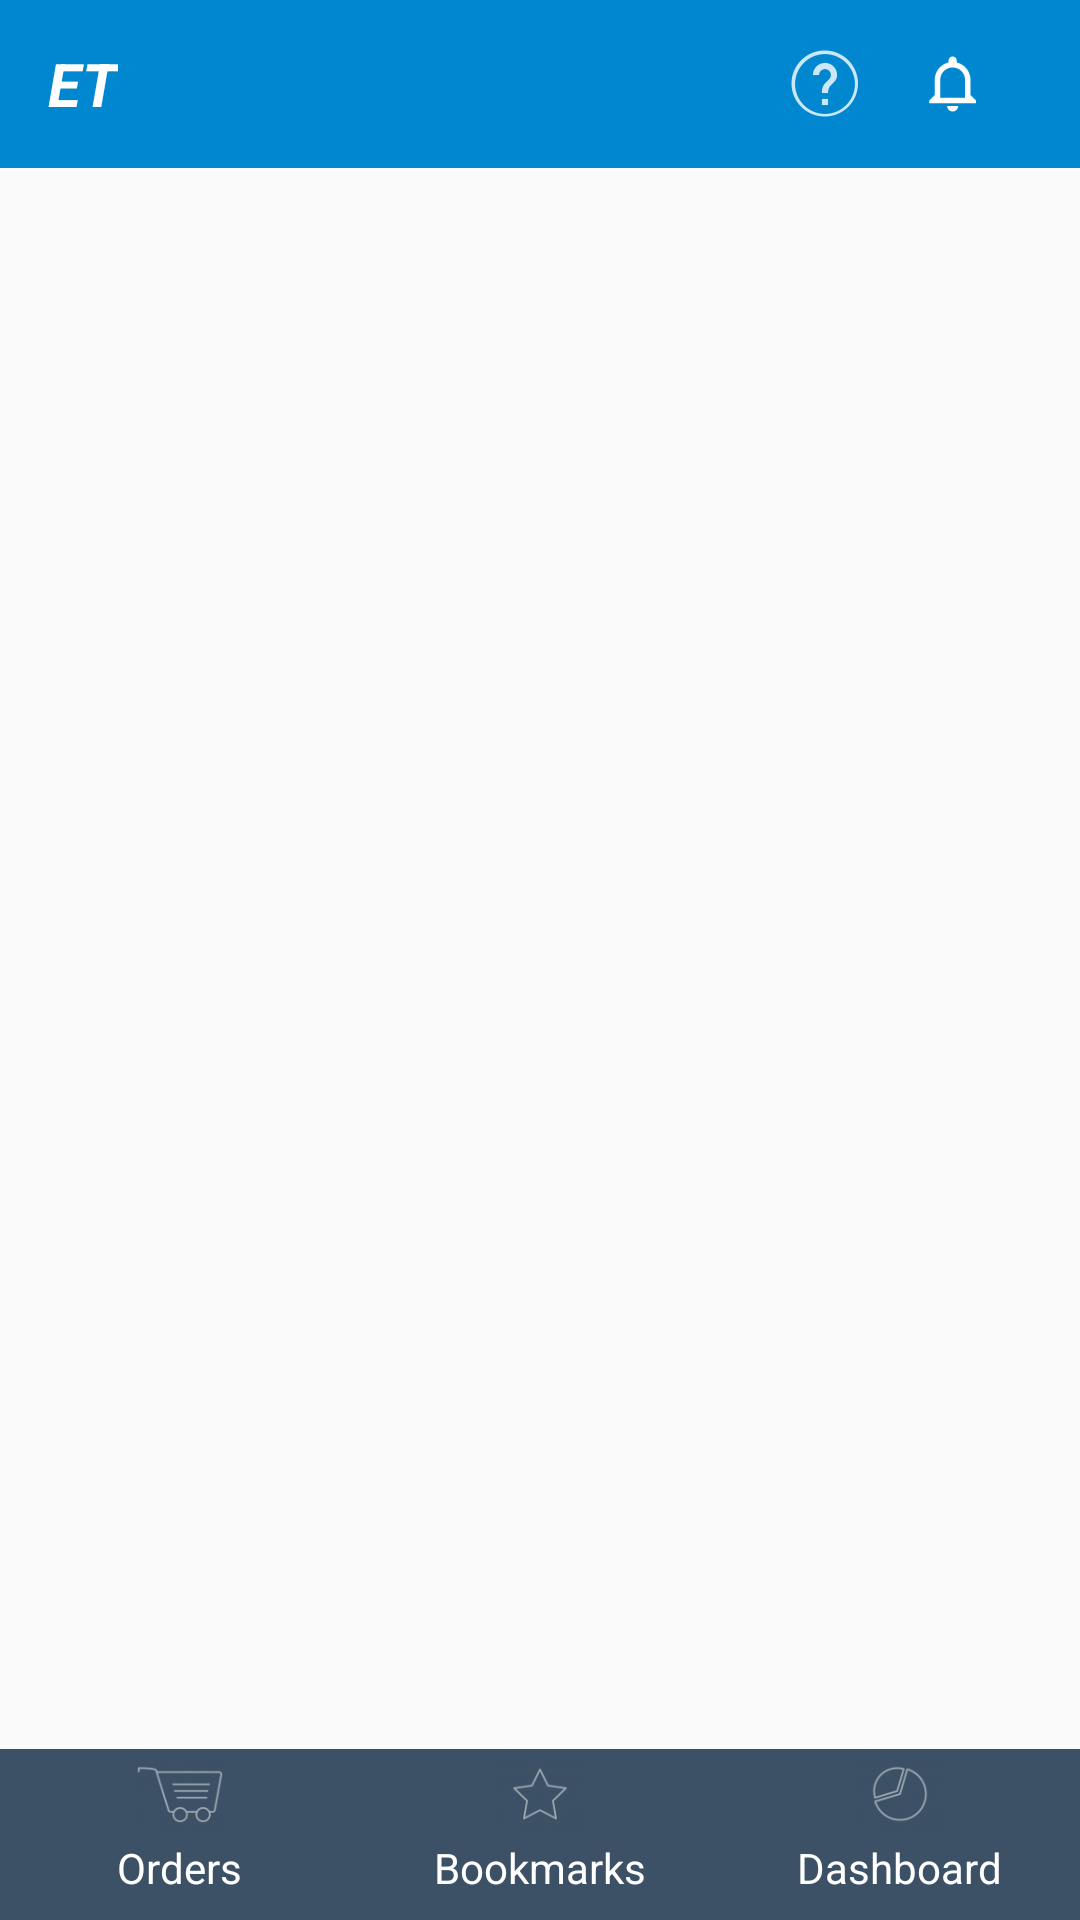

Icons on this 1080 × 1920 Android screen, each with its box as [x1, y1, x2, y2]:
cart not: [138, 1767, 222, 1822]
help: [791, 50, 858, 117]
notify: [929, 56, 976, 112]
